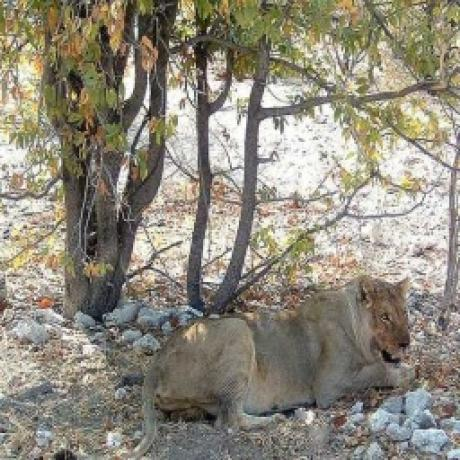Lion: (142, 271, 420, 432)
